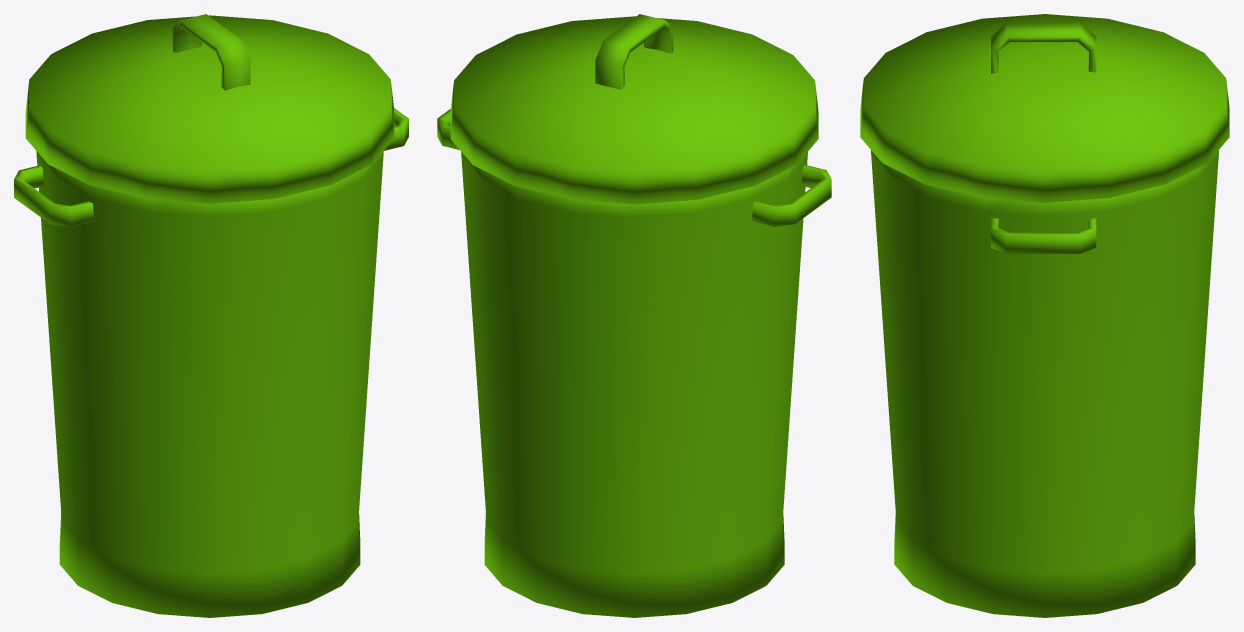
Rendered from Bin01Night.glb.
3 views of the same model, side by side, from view 1: azimuth 30°, elevation 25°; view 2: azimuth 150°, elevation 25°; view 3: azimuth 270°, elevation 25° (orthographic).
Visible parts, largest first — view 1: Bin01Night; view 2: Bin01Night; view 3: Bin01Night.
Boxes of the visible parts, bbox=[...] form: Bin01Night: bbox=[14, 14, 408, 617]; Bin01Night: bbox=[437, 14, 831, 617]; Bin01Night: bbox=[860, 14, 1229, 617].
Size of the model in its own units: 1.22 by 1.7 by 1.09.
1 material, 1 textured.
